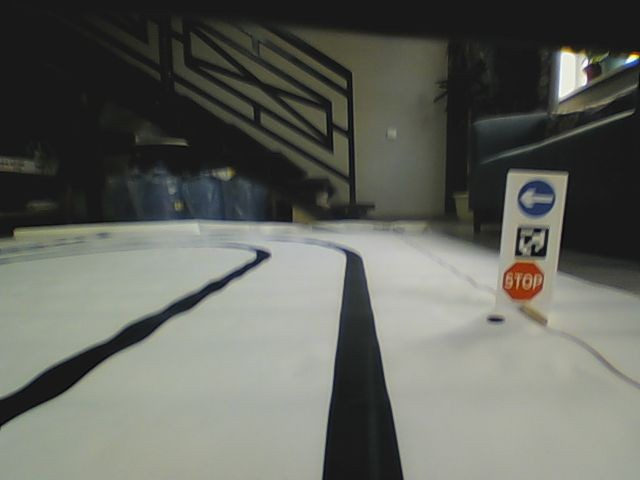Stop: (500, 260, 546, 303)
